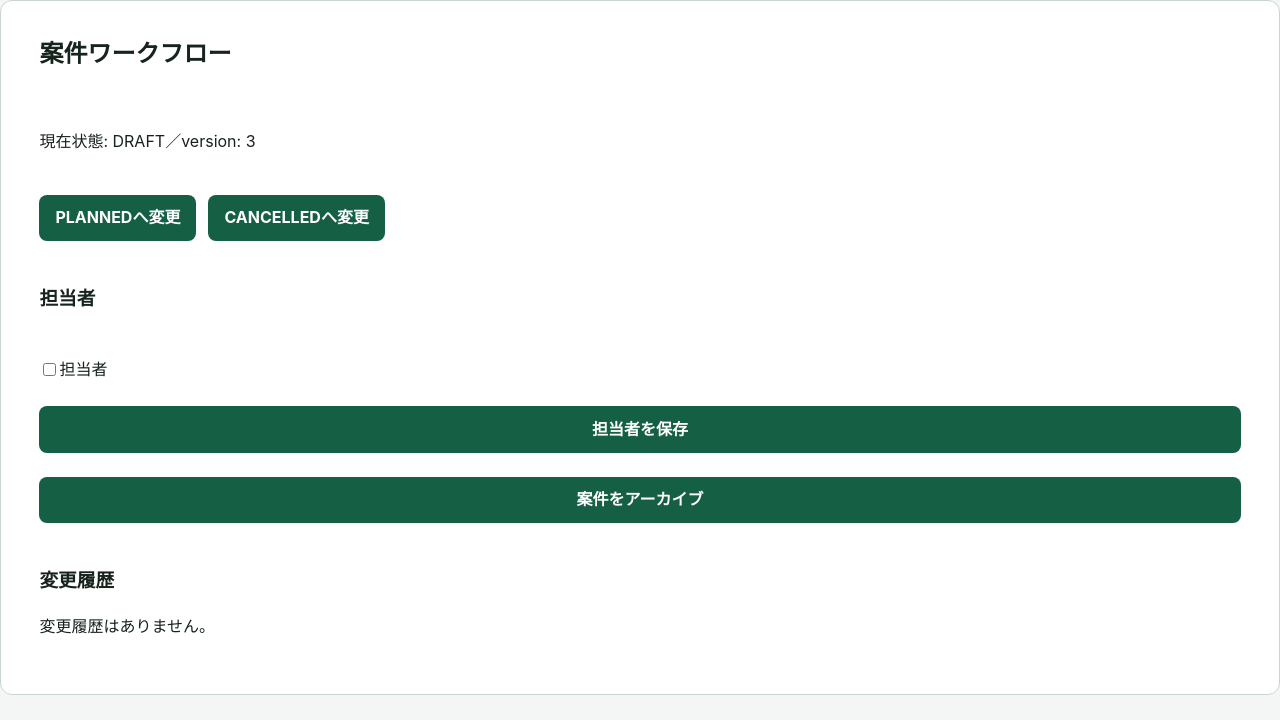
Scenario: shows conflict details and refetches project and history caches
The image size is (1280, 720).
Click the button "PLANNEDへ変更".
click(118, 218)  # box [39,195,196,241]
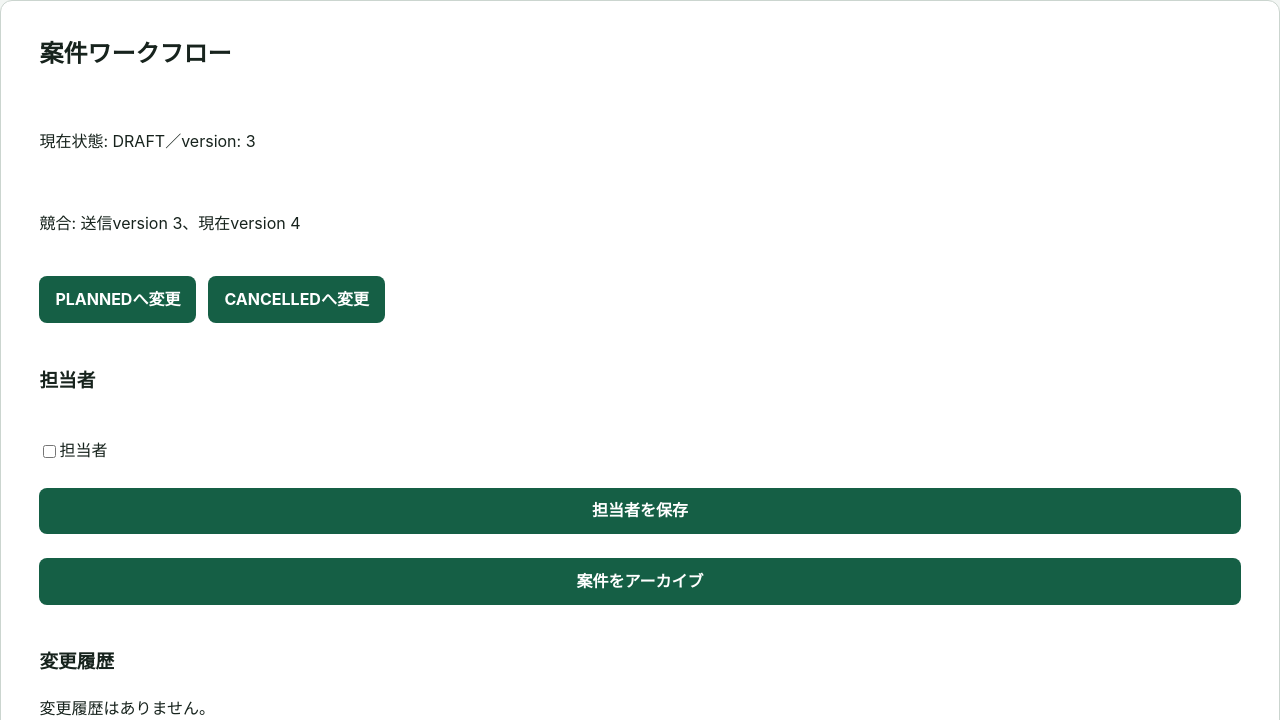
Check: the message shows "送信version 3、現在version 4", box [39,213,300,233]
